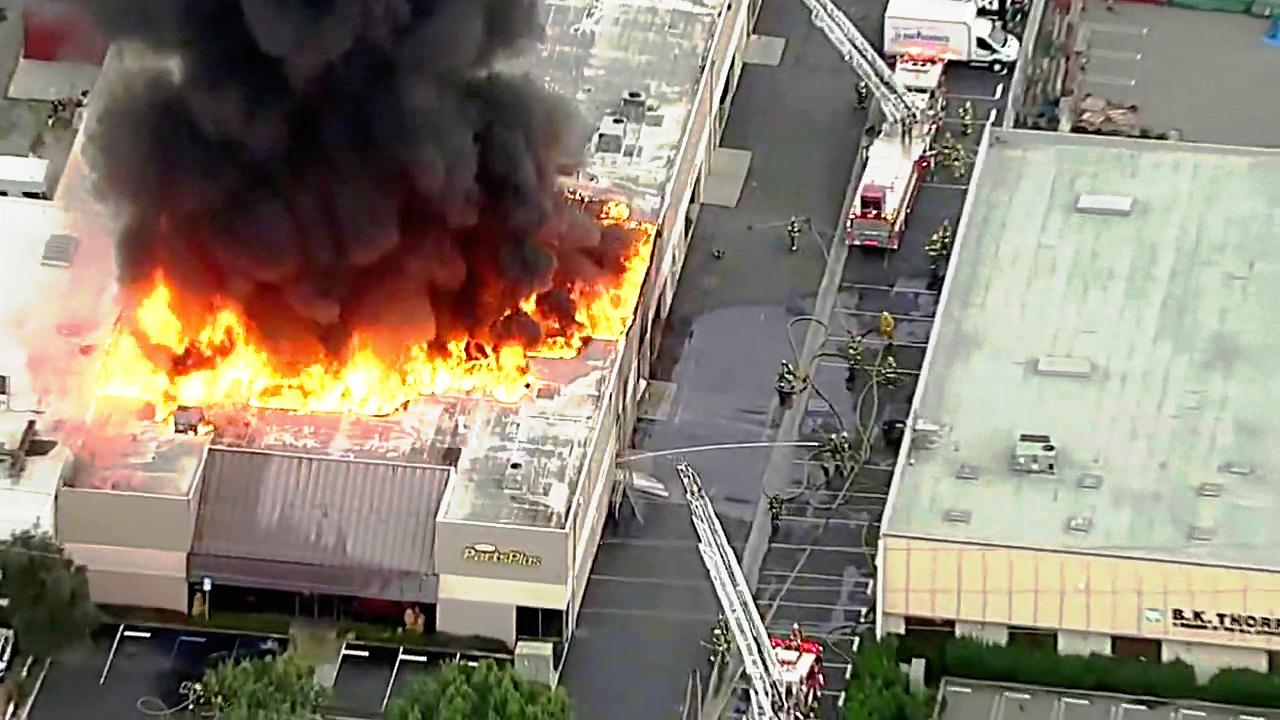fire: (110, 265, 266, 419), (270, 324, 444, 415), (443, 307, 569, 395), (597, 209, 654, 348)
smoke: (106, 0, 563, 293)
